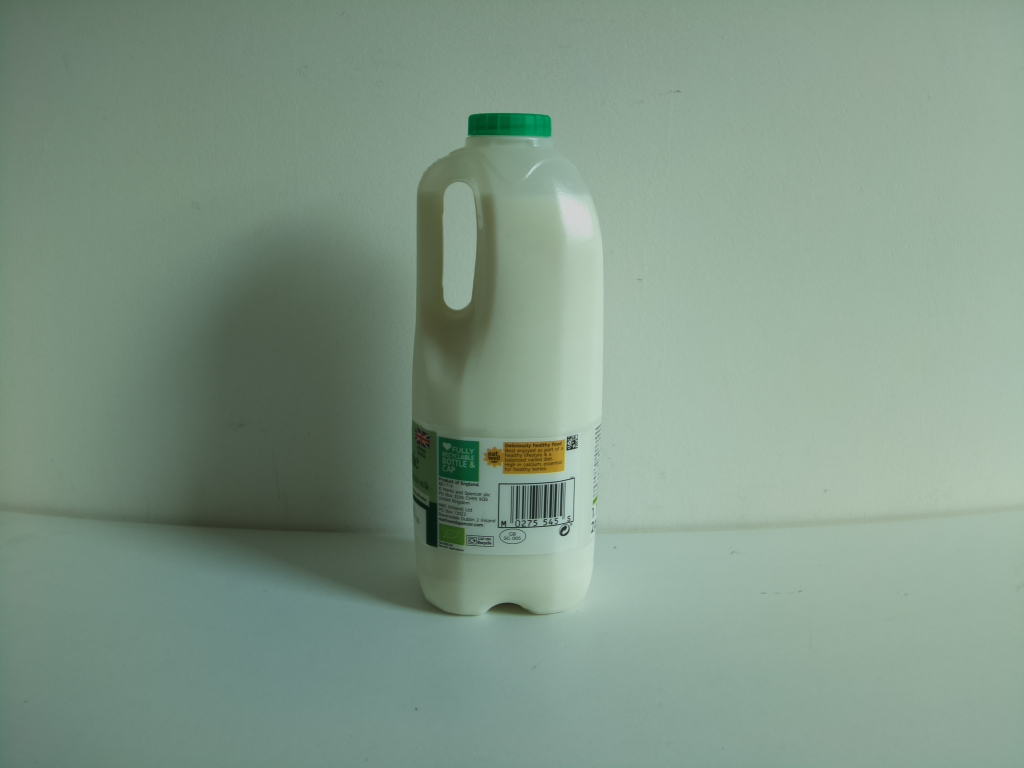milk: (405, 108, 605, 617)
